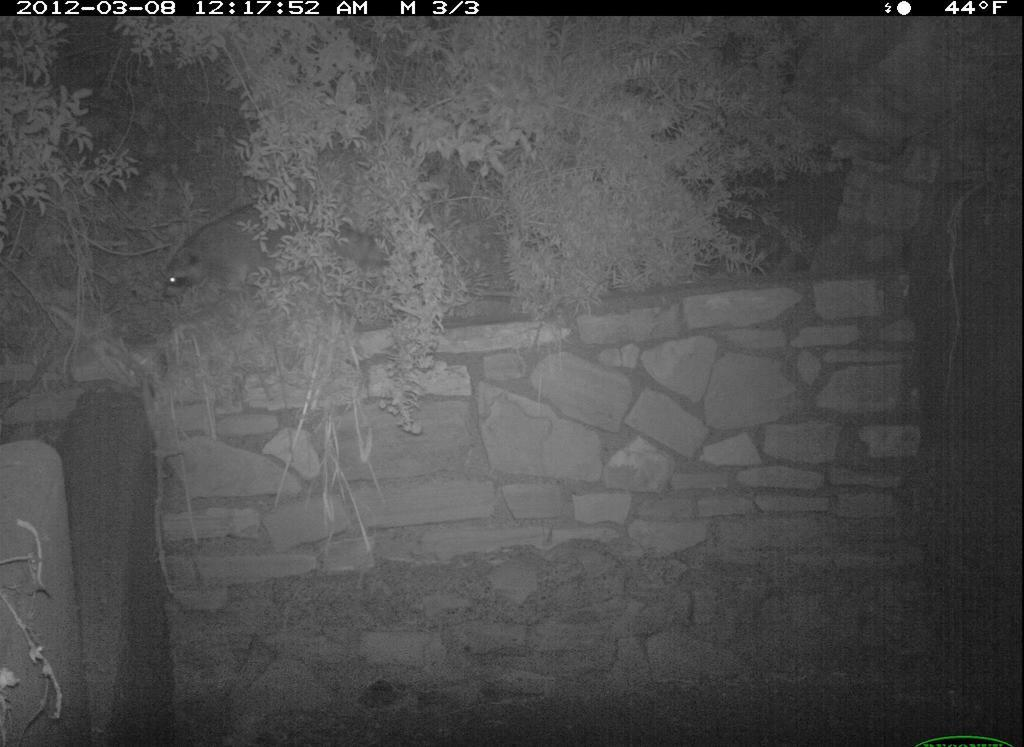raccoon: (140, 189, 355, 315)
